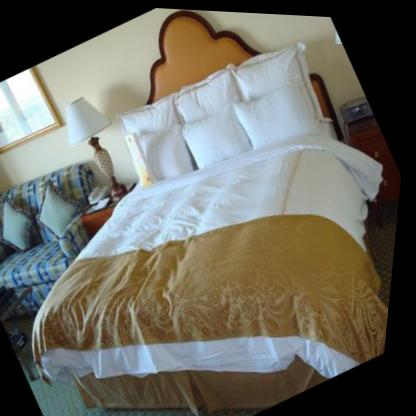Bed: (39, 38, 397, 412)
Sofa: (0, 148, 147, 330)
